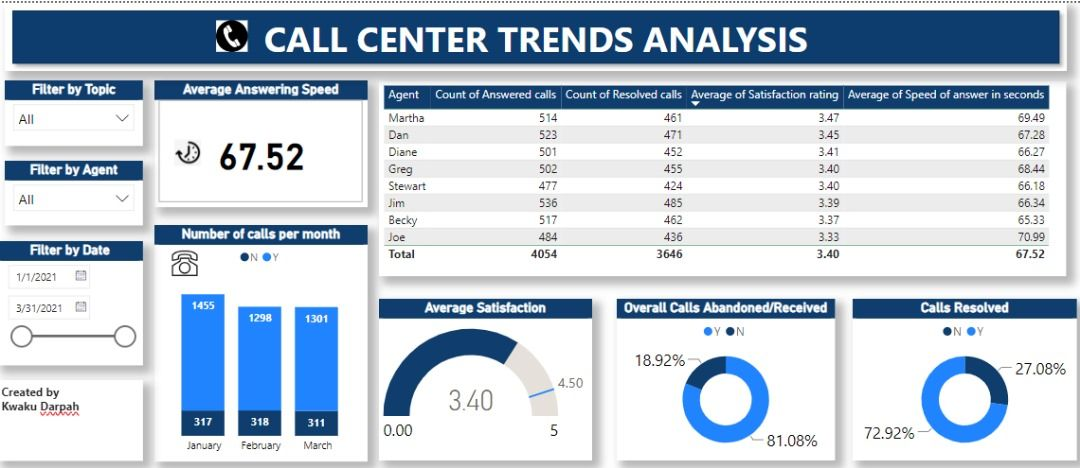

What the dashboard file says about the page in this screenshot:
{"tool":"powerbi","page":{"name":"Page 1","canvas":[1280,720],"ordinal":0},"visuals":[{"type":"donutChart","title":"Overall Calls Abandoned/Received","fields":{"Category":["Sheet1.Answered (Y/N)"],"Y":["Sheet1.Call Id"]},"box":[727.1,348.3,255.8,190],"z":1000},{"type":"columnChart","title":"Number of calls per month","fields":{"Category":["Sheet1.Date.Variation.Date Hierarchy.Month"],"Y":["Sheet1.Call Id"],"Series":["Sheet1.Answered (Y/N)"]},"box":[183.9,260.6,249.7,277.7],"z":2000},{"type":"cardVisual","title":"Average Answering Speed","fields":{"Data":["Sheet1.Speed of answer in seconds"]},"box":[183.9,91.3,249.7,148.6],"z":3000},{"type":"tableEx","title":"Agent''s Performance Quadrant - Average Handle Time vs Calls Answered:","fields":{"Values":["Sheet1.Agent","Sheet1.Count of Answered calls","Sheet1.Count of Resolved calls","Sheet1.Satisfaction rating","Sheet1.Speed of answer in seconds"]},"box":[448.1,91.9,805.7,229.1],"z":4000},{"type":"shape","box":[8.5,0,1245.9,80.4],"z":5000},{"type":"slicer","title":"Filter by Agent","fields":{"Values":["Sheet1.Agent"]},"box":[8.5,185.1,162,75.5],"z":6000},{"type":"donutChart","title":"Calls Resolved","fields":{"Y":["Sheet1.Call Id"],"Series":["Sheet1.Resolved"]},"box":[1003.5,348.3,263.1,190],"z":6001},{"type":"slicer","title":"Filter by Date","fields":{"Values":["Sheet1.Date"]},"box":[0,280.2,170.8,146],"z":6002},{"type":"gauge","title":"Average Satisfaction","fields":{"Y":["Sheet1.Satisfaction rating"],"TargetValue":["Sheet1.Target Value Satisfaction"],"MaxValue":["Sum(Sheet1.Satisfaction rating)1"]},"box":[448.2,348.3,249.7,190],"z":6003},{"type":"slicer","title":"Filter by Topic","fields":{"Values":["Sheet1.Topic"]},"box":[8.5,91.3,162,76.7],"z":6004},{"type":"textbox","box":[0,443.3,170.5,95],"z":6005},{"type":"image","box":[199.7,155.9,47.5,41.4],"z":6006},{"type":"image","box":[247.2,15.8,54.8,47.5],"z":6007},{"type":"image","box":[200,280,40,51.4],"z":6008}]}

Visuals, with their boxes on the page's 1280x720 design canvas (x1, y1, x2, y2). These are canvas units, not pixel positions in the 1080x468 screenshot, which may show the page scaled, cropped or inside an application window:
"Overall Calls Abandoned/Received" donutChart: (x1=727, y1=348, x2=983, y2=538)
"Number of calls per month" columnChart: (x1=184, y1=261, x2=434, y2=538)
"Average Answering Speed" cardVisual: (x1=184, y1=91, x2=434, y2=240)
"Agent''s Performance Quadrant - Average Handle Time vs Calls Answered:" tableEx: (x1=448, y1=92, x2=1254, y2=321)
shape: (x1=8, y1=0, x2=1254, y2=80)
"Filter by Agent" slicer: (x1=8, y1=185, x2=170, y2=261)
"Calls Resolved" donutChart: (x1=1004, y1=348, x2=1267, y2=538)
"Filter by Date" slicer: (x1=0, y1=280, x2=171, y2=426)
"Average Satisfaction" gauge: (x1=448, y1=348, x2=698, y2=538)
"Filter by Topic" slicer: (x1=8, y1=91, x2=170, y2=168)
textbox: (x1=0, y1=443, x2=170, y2=538)
image: (x1=200, y1=156, x2=247, y2=197)
image: (x1=247, y1=16, x2=302, y2=63)
image: (x1=200, y1=280, x2=240, y2=331)
